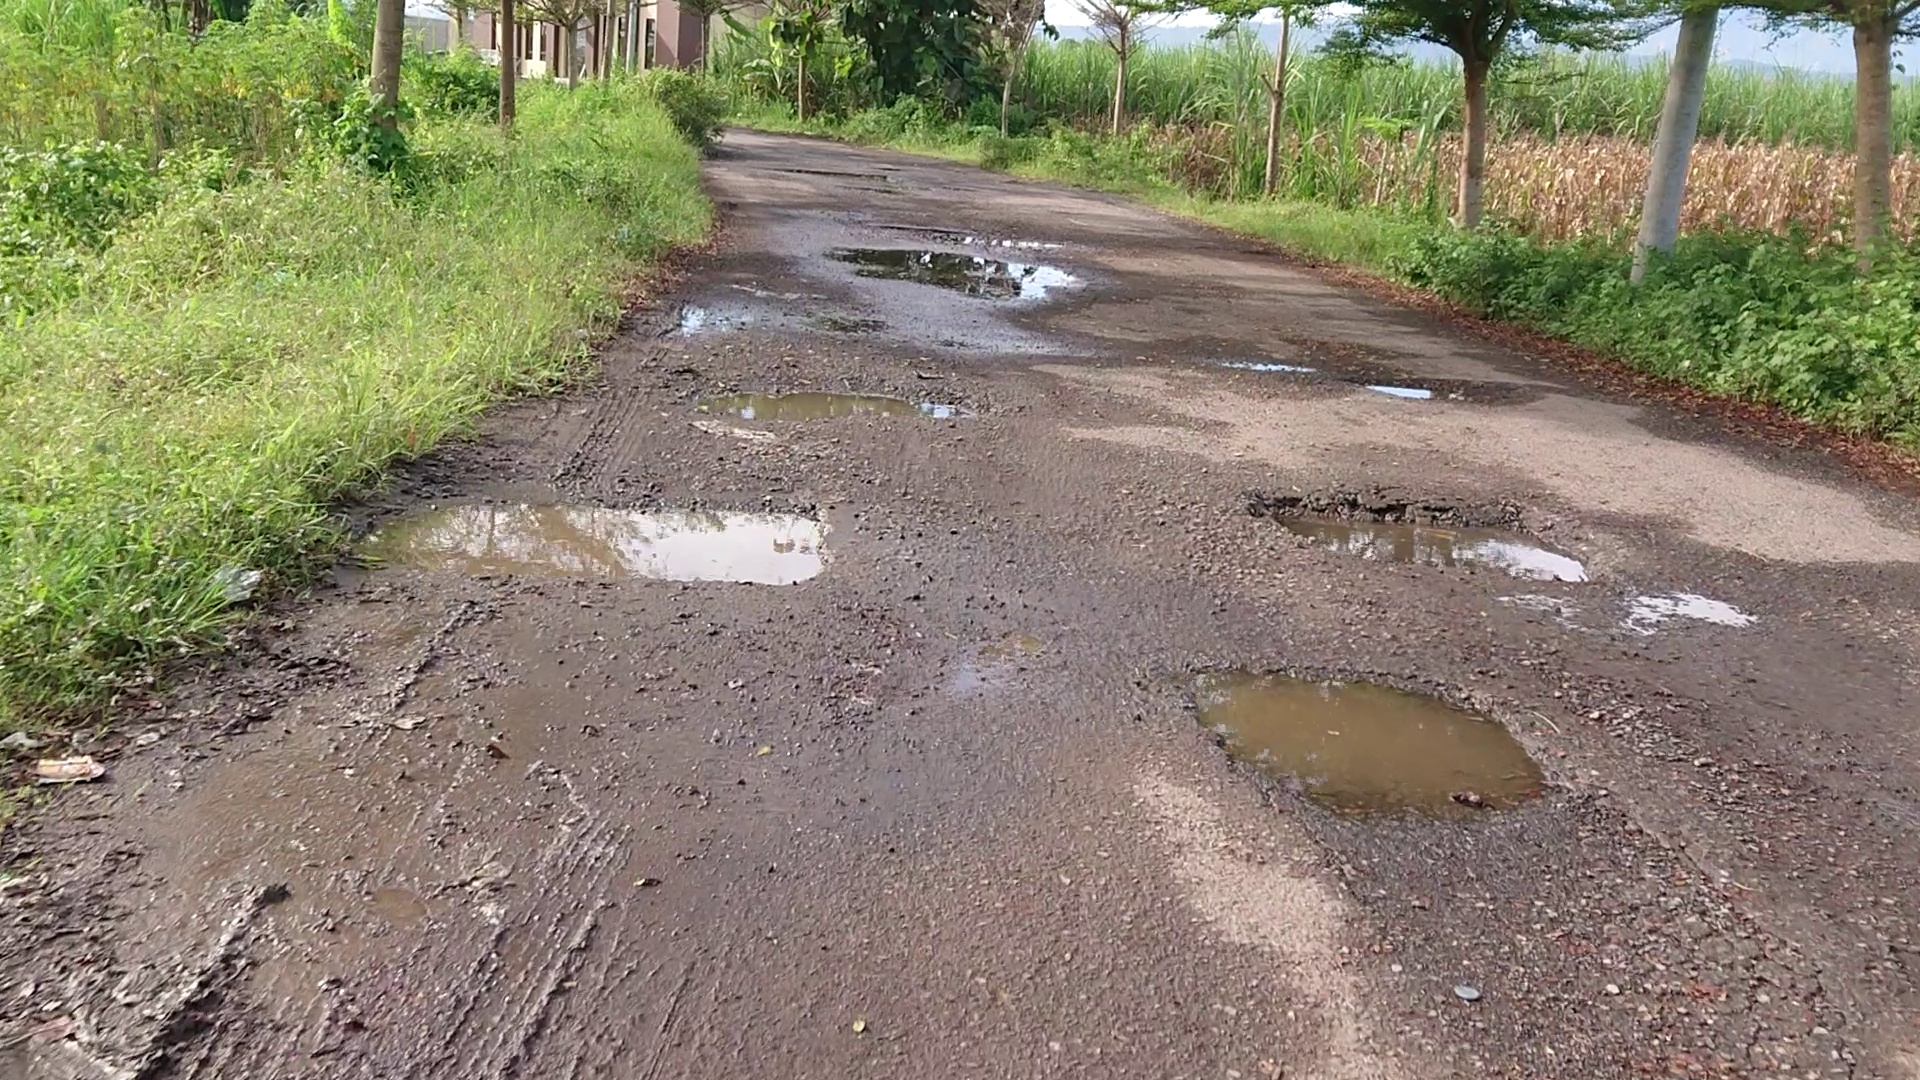Berlubang: (1156, 655, 1538, 818), (1257, 498, 1589, 578), (1242, 351, 1484, 411), (814, 243, 1069, 299)
